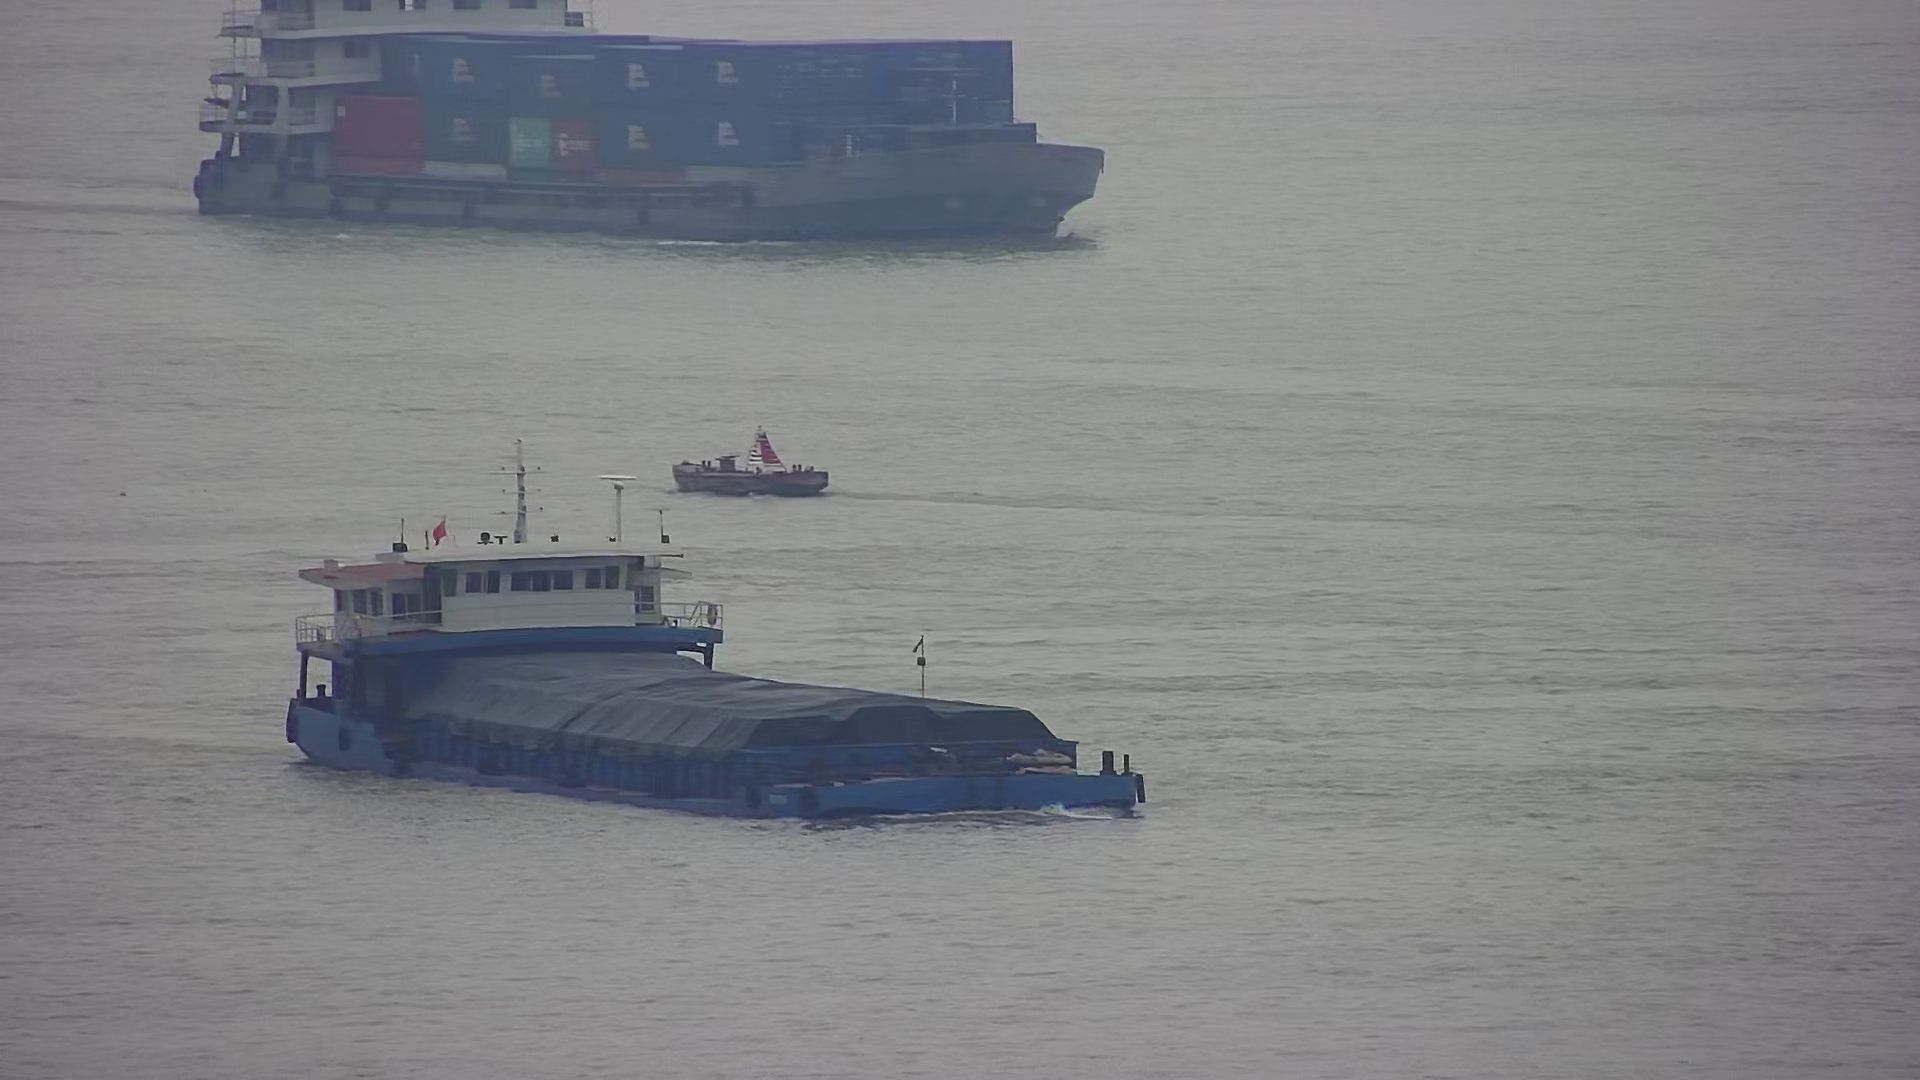boat: (665, 429, 833, 495)
ship: (284, 450, 1150, 819), (189, 3, 1102, 241)
